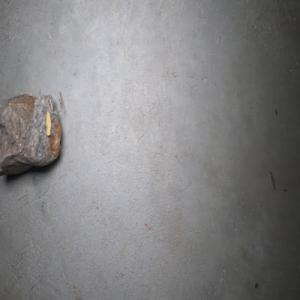Rock: (0, 89, 61, 176)
